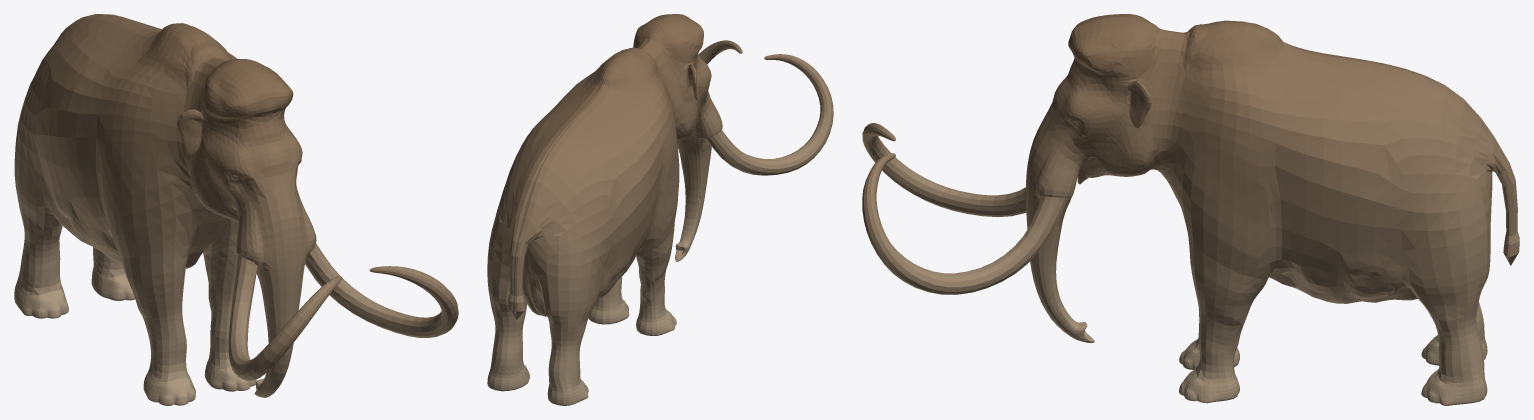
Rendered from woolly-mammoth.glb.
3 views of the same model, side by side, from view 1: azimuth 30°, elevation 25°; view 2: azimuth 150°, elevation 25°; view 3: azimuth 270°, elevation 25° (orthographic). The views are drawn at different scales.
Parts seen in each view (by area): view 1: woolly_mammoth_2.obj; view 2: woolly_mammoth_2.obj; view 3: woolly_mammoth_2.obj.
Boxes of the visible parts, box(x1,y1,x2,y2) form: woolly_mammoth_2.obj: box(14, 14, 458, 405); woolly_mammoth_2.obj: box(487, 14, 833, 405); woolly_mammoth_2.obj: box(862, 14, 1519, 405).
Bounding box in the file's own units: 2.53 × 4.28 × 7.06.
